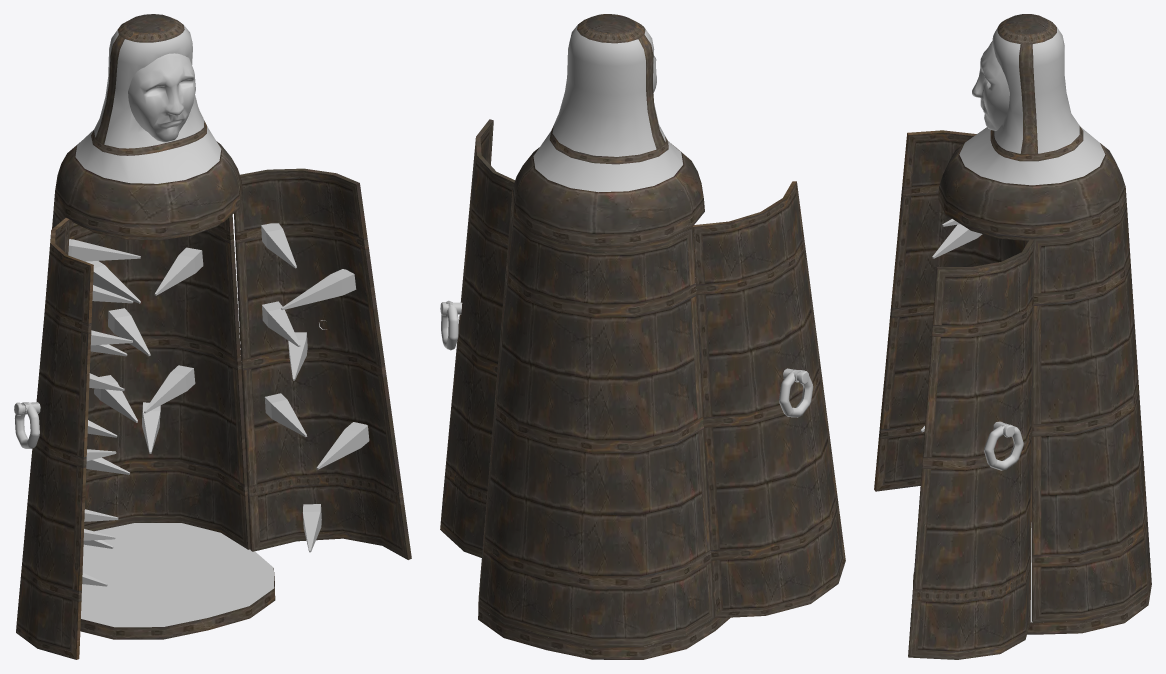
3 views of the same model, side by side, from view 1: azimuth 30°, elevation 25°; view 2: azimuth 150°, elevation 25°; view 3: azimuth 270°, elevation 25° (orthographic). The views are drawn at different scales.
Parts seen in each view (by area): view 1: SM_Iron_Maiden_03_LOD0; view 2: SM_Iron_Maiden_03_LOD0; view 3: SM_Iron_Maiden_03_LOD0.
Boxes of the visible parts, x1=… form: SM_Iron_Maiden_03_LOD0: x1=14, y1=14, x2=411, y2=659; SM_Iron_Maiden_03_LOD0: x1=440, y1=14, x2=845, y2=659; SM_Iron_Maiden_03_LOD0: x1=874, y1=14, x2=1151, y2=659.
Size of the model in its own units: 2.34 by 3.44 by 1.54.
